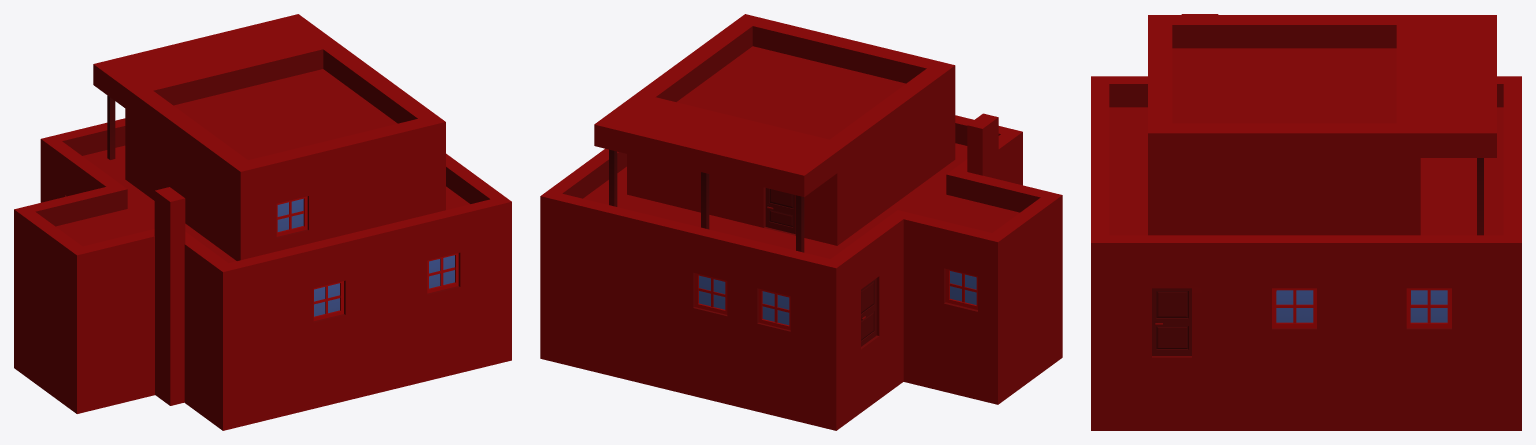
Rendered from buildings-residential-adobehouse_v3.fbx.
3 renders of one model, left to right at view 1: azimuth 30°, elevation 25°; view 2: azimuth 150°, elevation 25°; view 3: azimuth 270°, elevation 25°, orthographic. The views are drawn at different scales.
Visible parts, largest first — view 1: AdobeHouse_v3_base, AdobeHouse_v3_windowRefl; view 2: AdobeHouse_v3_base, AdobeHouse_v3_windowRefl; view 3: AdobeHouse_v3_base, AdobeHouse_v3_windowRefl.
Part boxes in pixels (x1,y1,x2,y2): AdobeHouse_v3_base: (14,14,511,430); AdobeHouse_v3_windowRefl: (277,198,454,316); AdobeHouse_v3_base: (540,14,1062,430); AdobeHouse_v3_windowRefl: (699,271,976,325); AdobeHouse_v3_base: (1091,14,1521,430); AdobeHouse_v3_windowRefl: (1276,290,1447,322).
Size of the model in its own units: 22.66 by 13.12 by 18.75.
